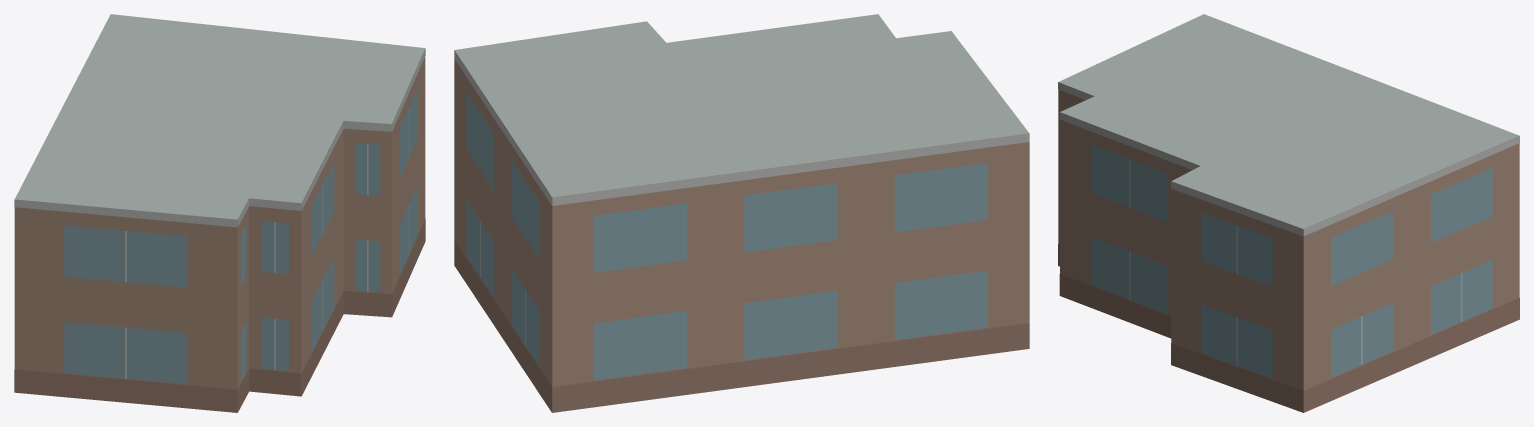
File: survey-upis-32519127.glb
3 renders of one model, left to right at view 1: azimuth 30°, elevation 25°; view 2: azimuth 150°, elevation 25°; view 3: azimuth 270°, elevation 25°, orthographic. The views are drawn at different scales.
Parts seen in each view (by area): view 1: survey-upis-32519127.tmp; view 2: survey-upis-32519127.tmp; view 3: survey-upis-32519127.tmp.
Boxes of the visible parts, x1,y1,x2,y2 form: survey-upis-32519127.tmp: [14, 14, 425, 412]; survey-upis-32519127.tmp: [454, 14, 1029, 412]; survey-upis-32519127.tmp: [1058, 14, 1519, 412].
Size of the model in its own units: 15.32 by 6.1 by 13.89.
